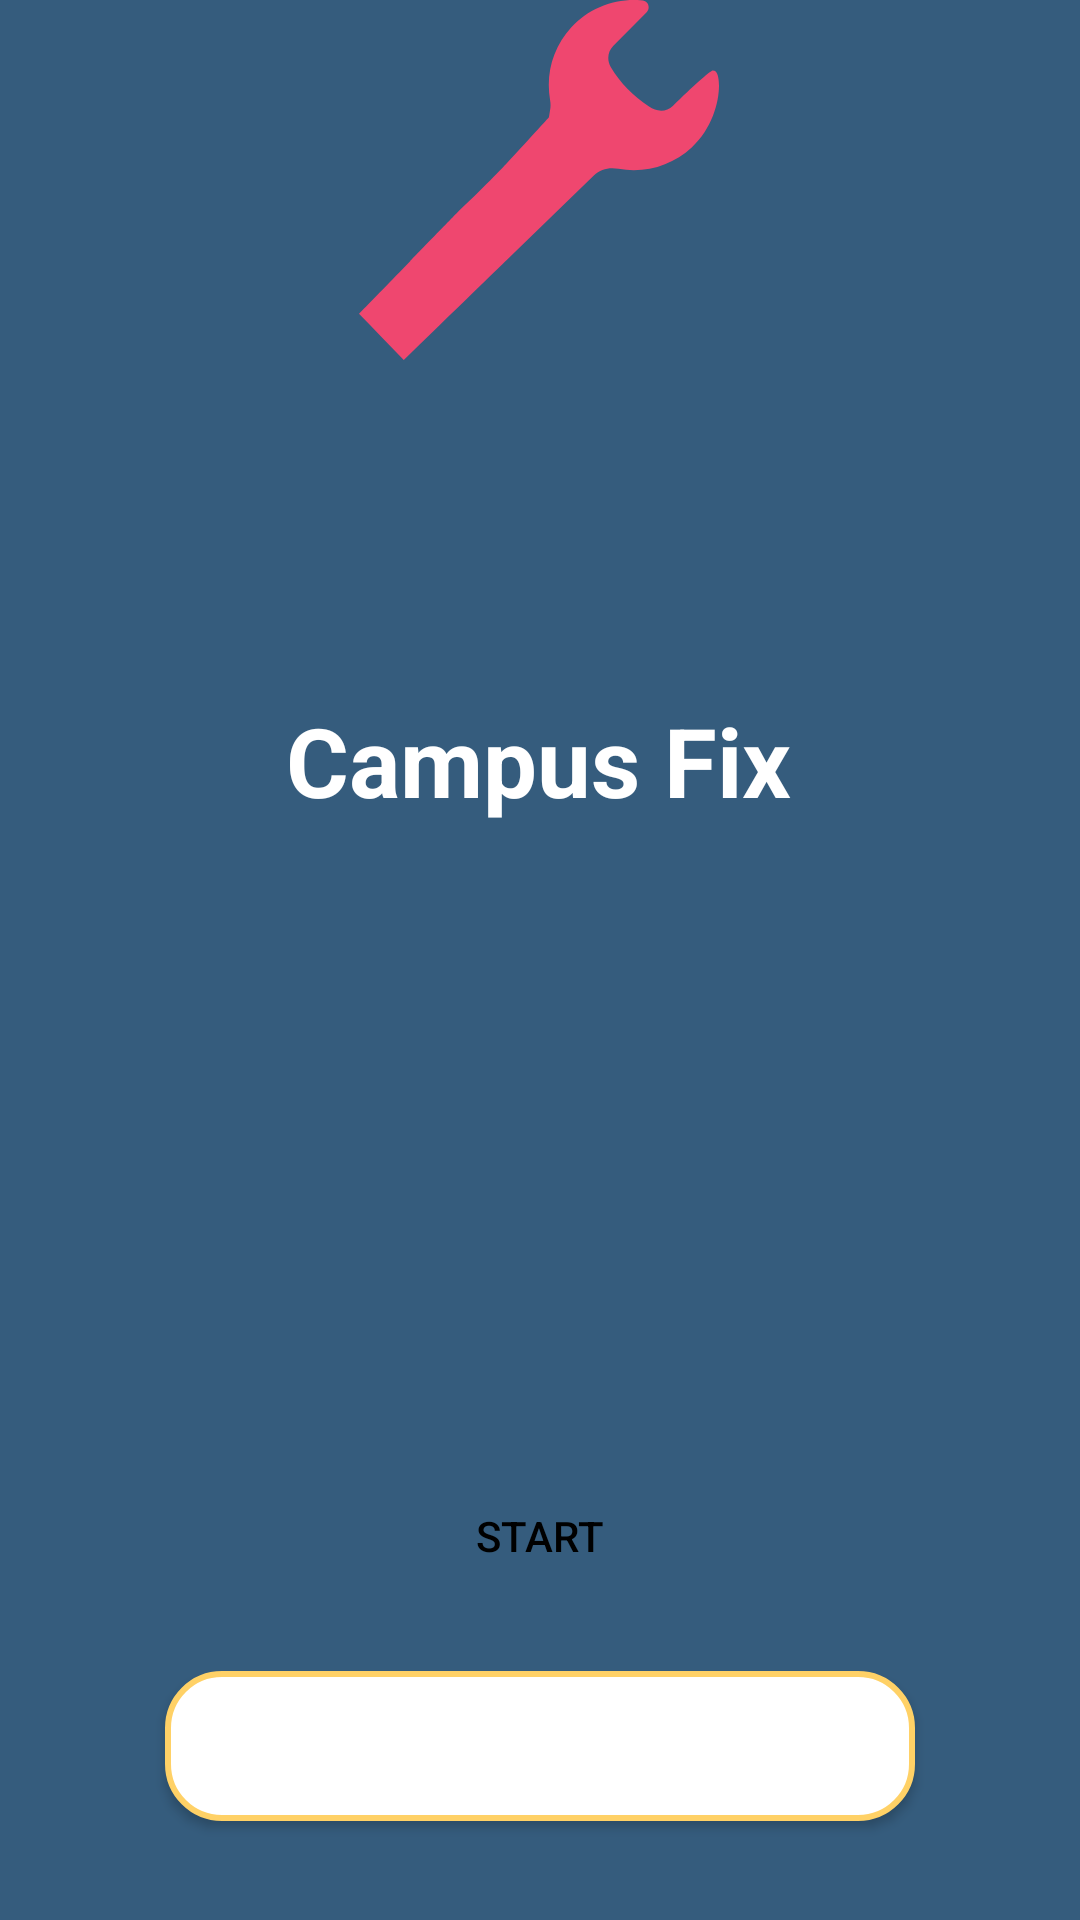

Locate icon controls on the screen. Image size 1080*1920, boxes as (x1, y1, x2, y2).
wrench: (359, 0, 719, 360)
